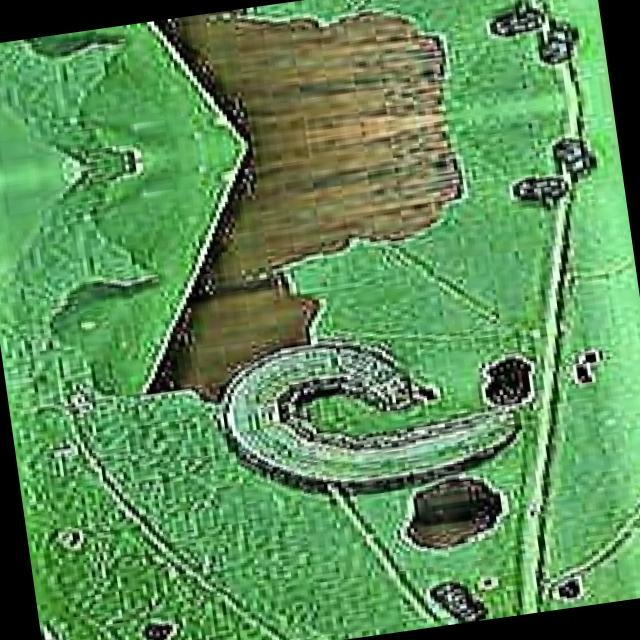Armyworm: (197, 317, 520, 541), (412, 563, 496, 630)
Armyworm_damage: (356, 466, 533, 585), (456, 344, 563, 411)
